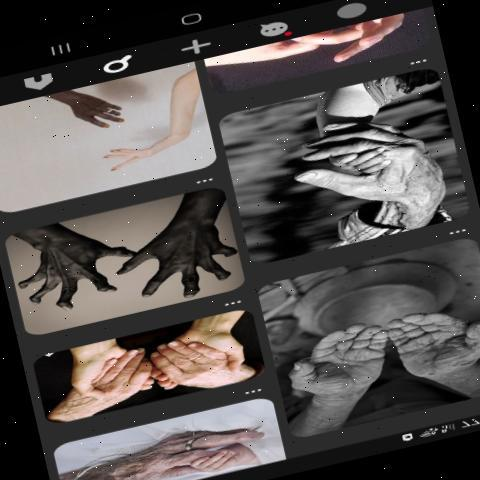Hands: (278, 84, 441, 240), (120, 214, 252, 319), (375, 278, 475, 405), (15, 225, 137, 319), (281, 307, 395, 391), (92, 111, 190, 195), (152, 330, 253, 404), (67, 342, 159, 412), (54, 88, 144, 146)
